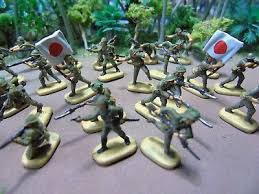Japanese Flag: (36, 31, 77, 65), (202, 30, 243, 63)
